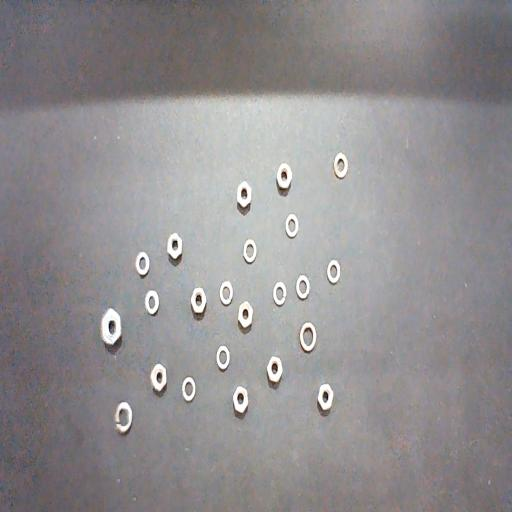nut: (100, 308, 122, 349), (150, 364, 167, 393), (232, 386, 249, 414), (190, 287, 207, 315), (317, 384, 333, 412), (267, 356, 283, 384), (236, 181, 252, 209), (276, 164, 293, 190), (238, 301, 254, 328), (167, 233, 182, 261)
washer: (114, 402, 133, 434), (299, 322, 317, 354), (333, 152, 349, 180), (144, 290, 160, 316), (181, 376, 196, 403), (272, 281, 287, 306), (216, 345, 230, 371), (136, 251, 150, 277), (219, 280, 233, 306), (284, 214, 298, 240), (326, 259, 340, 285), (296, 275, 310, 300), (243, 240, 257, 264)
